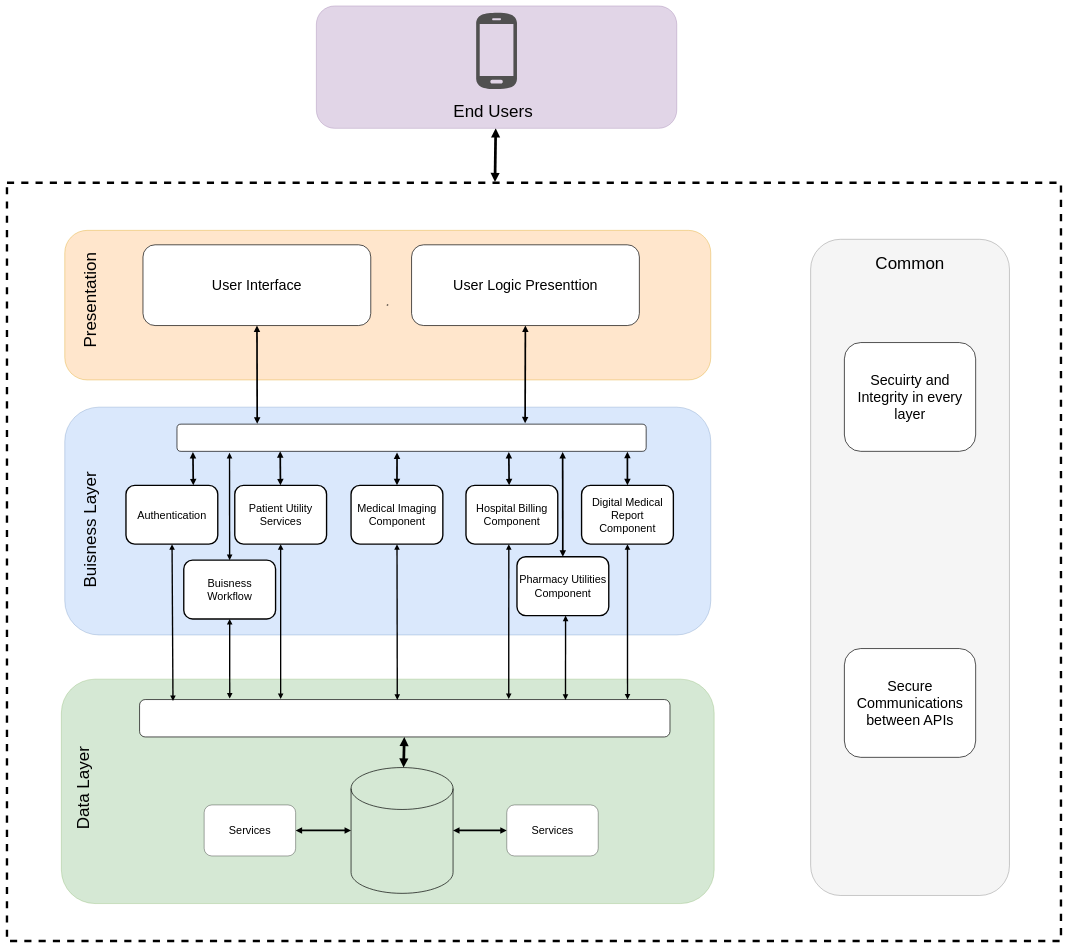
The diagram is 1068 pixels wide and 948 high, and some of its shapes have lost their labels. The shapes that lost their labels are listed below. From the top down, each one's box as (x1, y1, x2, y2) in pixels, then its label:
(176, 424, 646, 452): Application Facade
(139, 699, 670, 737): Web server
(351, 767, 453, 894): Cloud Database
